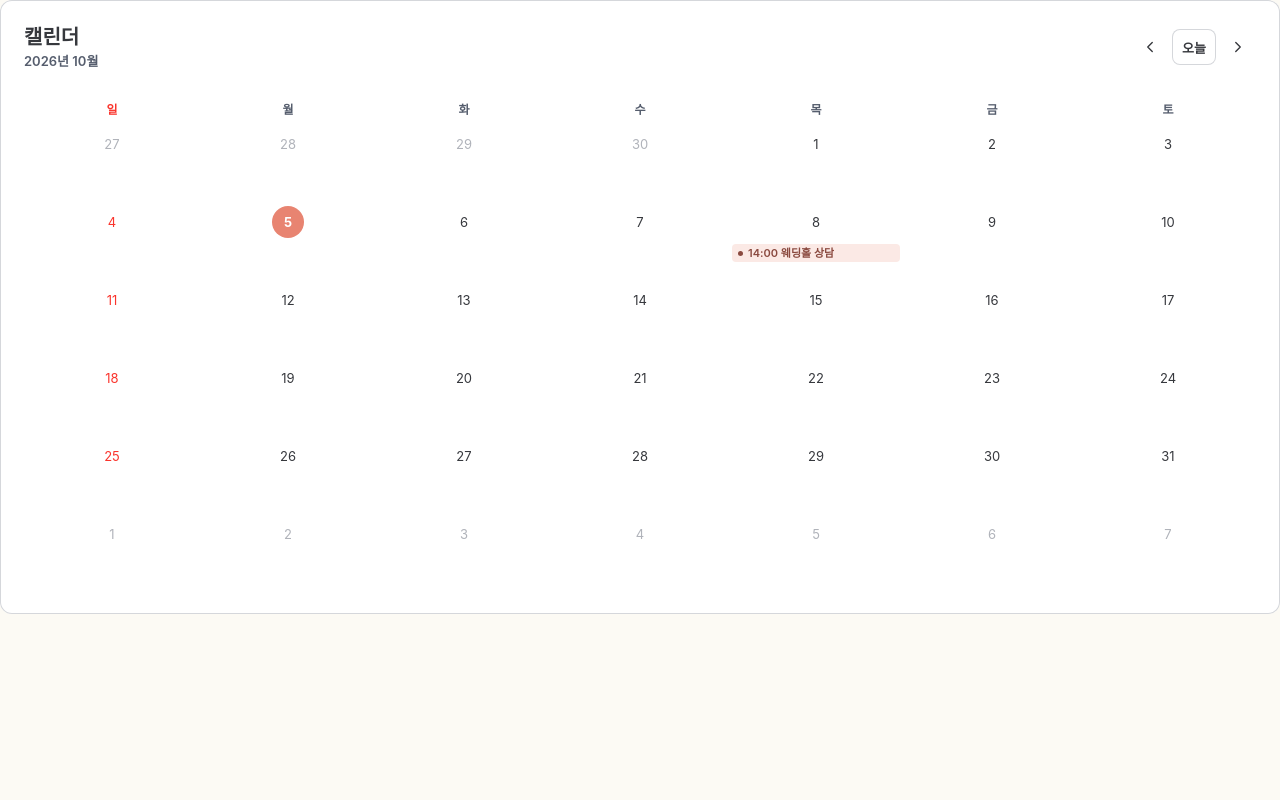
MonthlyCalendar › 일정 칩과 선택 날짜 목록에서 상세 모달을 열고 닫는다
This screenshot has width=1280, height=800.
Click the button "14:00 웨딩홀 상담". click: (791, 253)
box: [748,244,834,262]
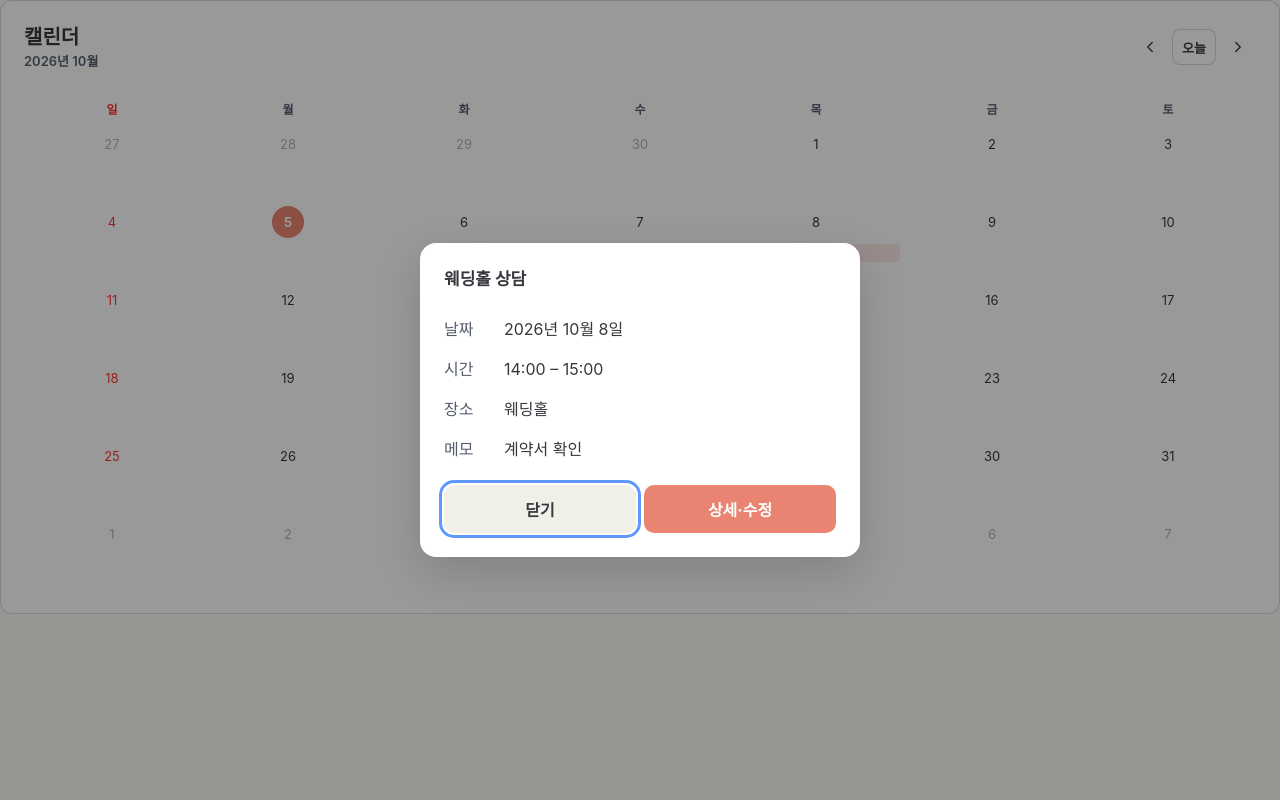
Now the text "14:00 – 15:00" is shown, box [504,359,603,379]
Now the text "웨딩홀" is shown, box [504,399,548,419]
Now the text "계약서 확인" is shown, box [504,439,582,459]
Press Escape in the dialog, box [420,243,860,557]
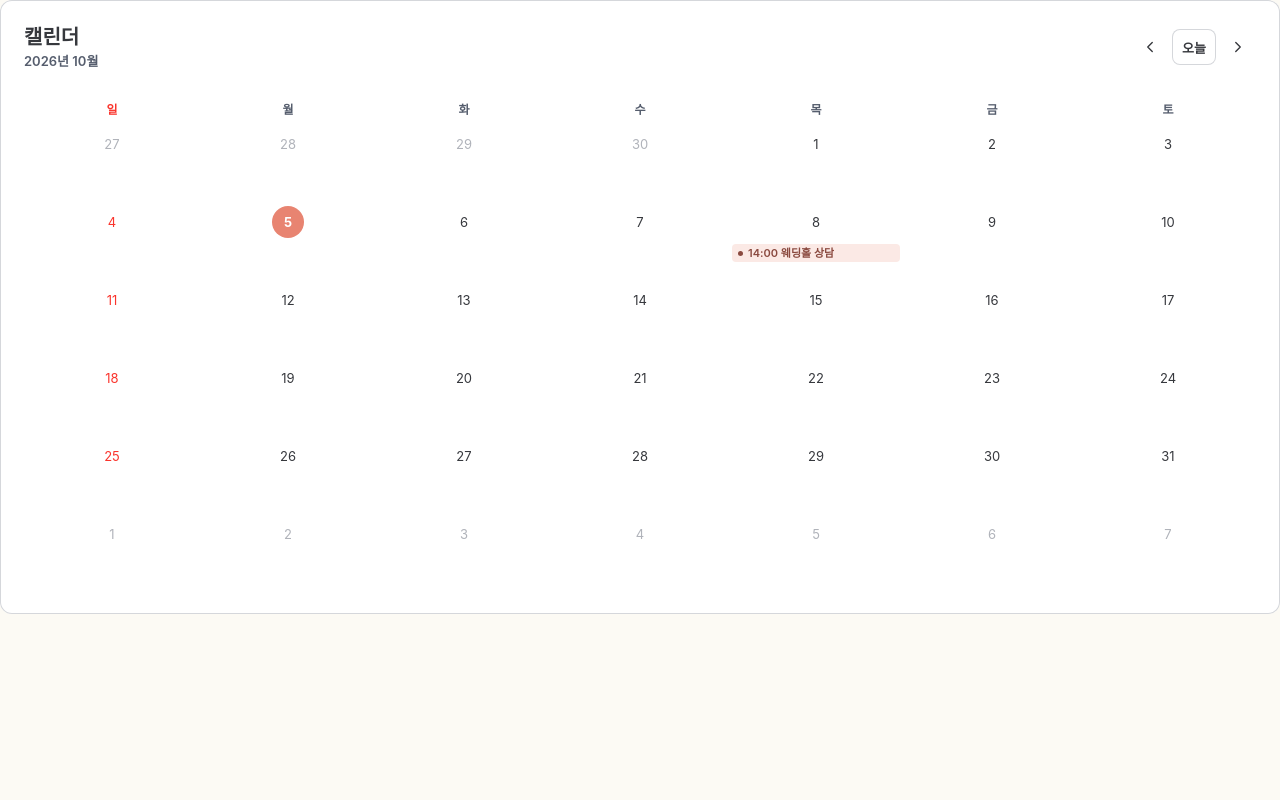
Now the dialog is gone
Click the button named "2026년 10월 8일". click: (816, 222)
box: [796,202,836,242]
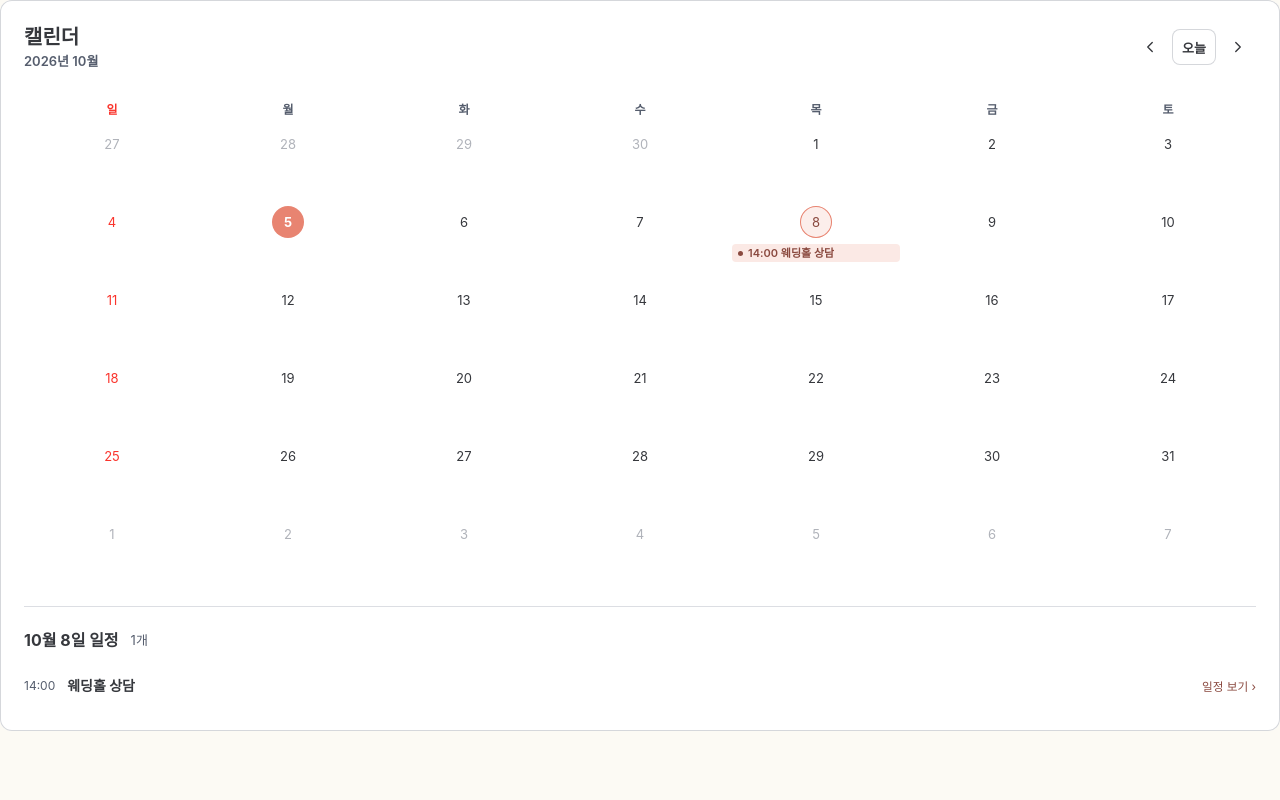
Now the text "14:00" is shown, box [24,678,55,693]
Click the button "14:00 웨딩홀 상담 일정 보기 ›". click: (40, 685)
box: [24,663,1256,707]
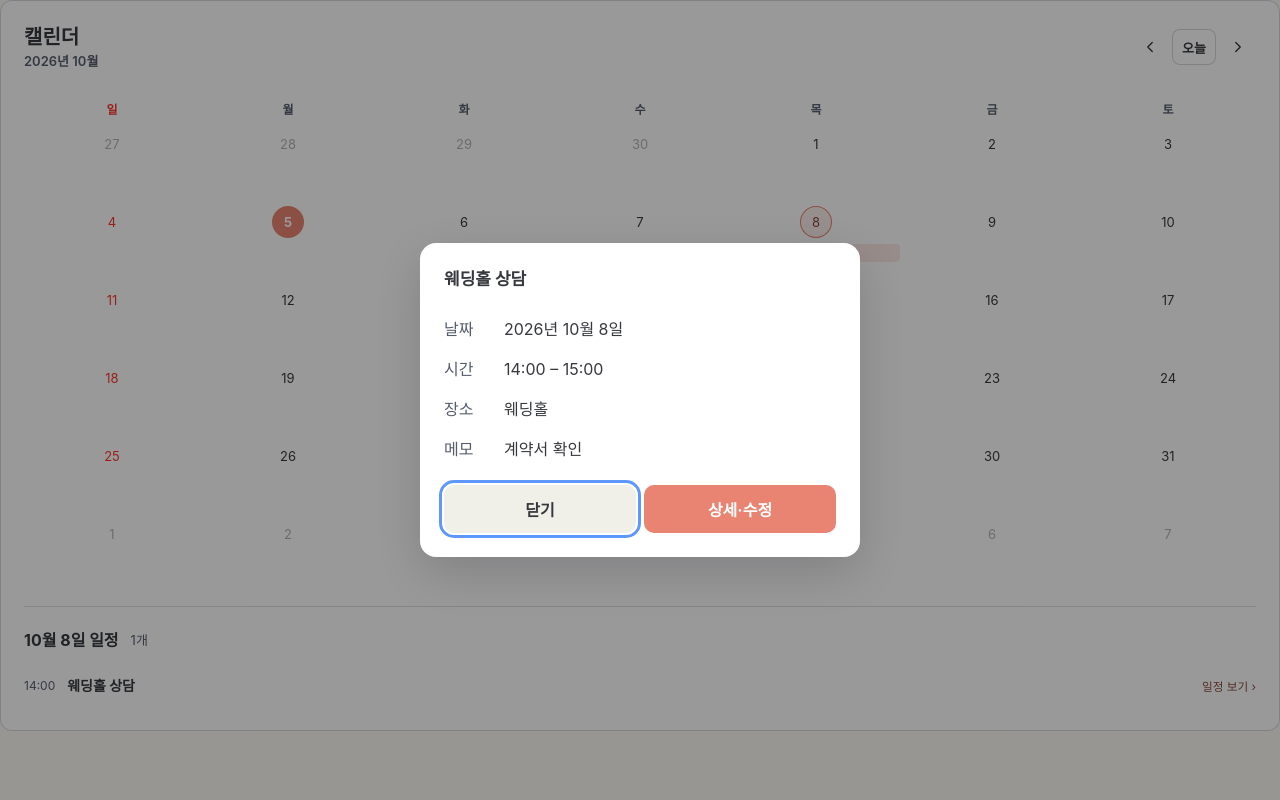
Now the text "2026년 10월 8일" is shown, box [504,319,623,339]
Click the button "닫기". click: (540, 509)
box: [444,485,636,533]
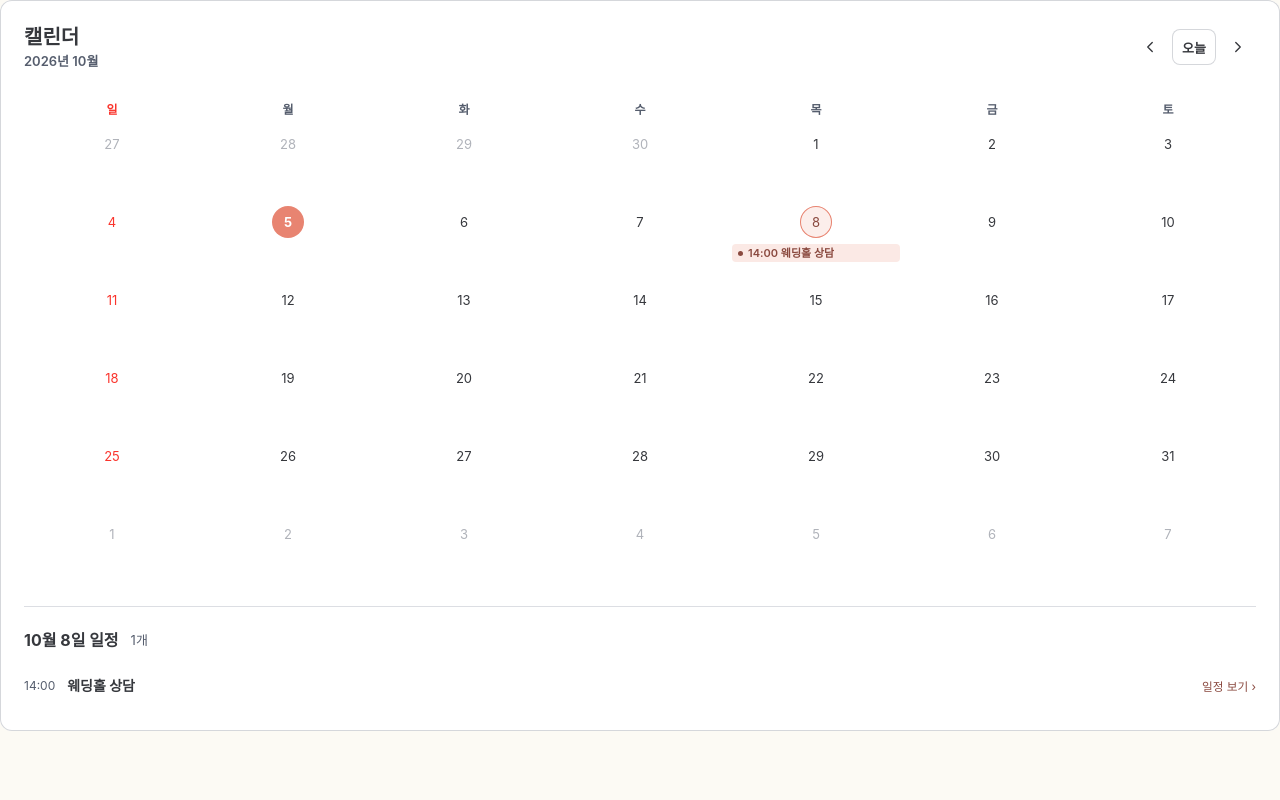
Now the dialog is gone
